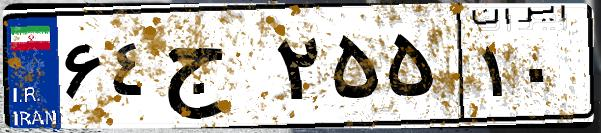0: (525, 38, 570, 115)
1: (475, 38, 525, 113)
2: (270, 28, 330, 110)
4: (110, 28, 158, 98)
5: (385, 28, 445, 110), (330, 28, 385, 110)
6: (57, 26, 110, 100)
ج: (158, 20, 270, 120)
